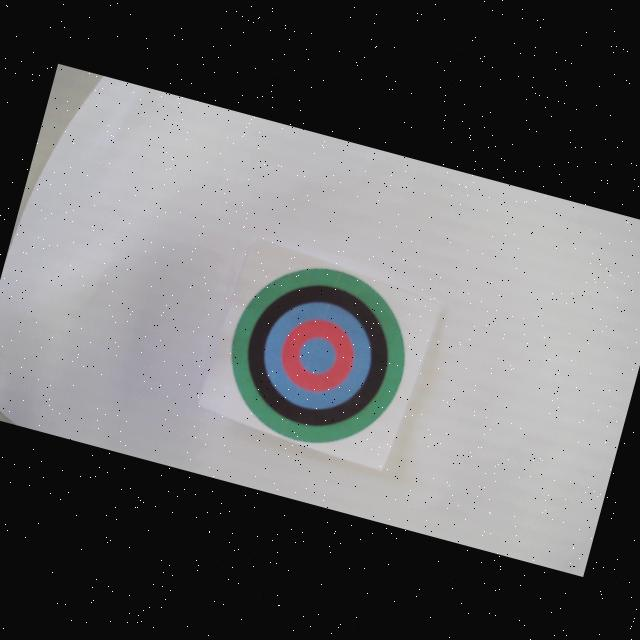COGNITIVE: (210, 248, 424, 462)
